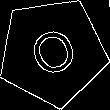O_SE: (22, 19, 83, 85)
